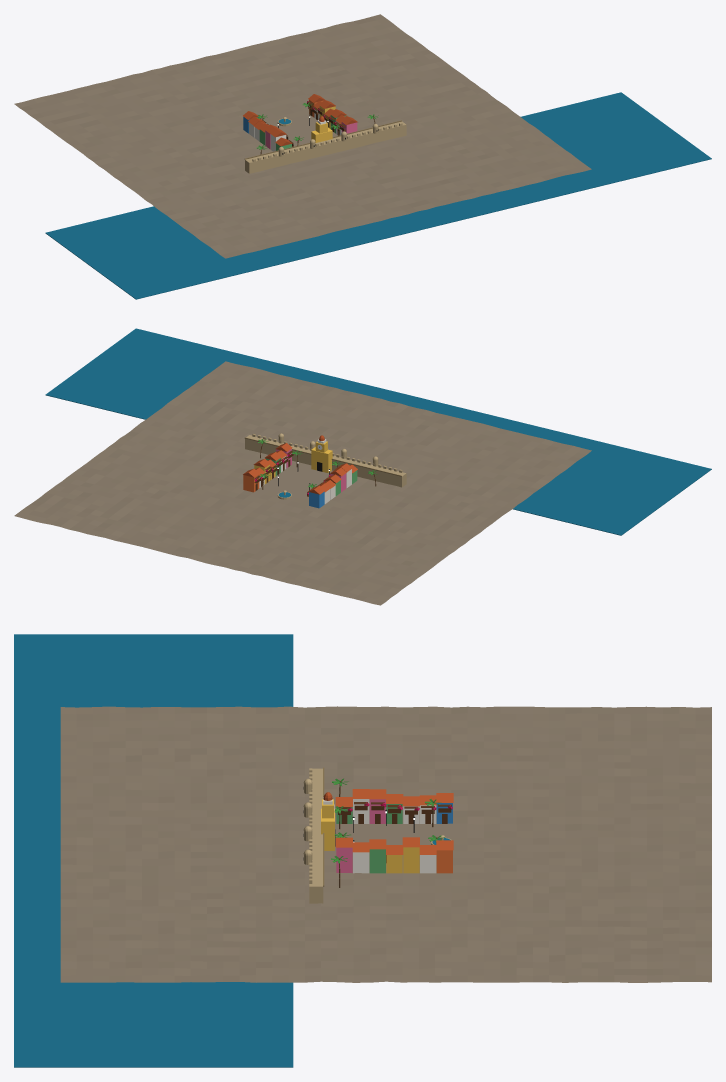
File: Escenario_Cartagena.fbx
3 views of the same model, one above another, from view 1: azimuth 30°, elevation 25°; view 2: azimuth 150°, elevation 25°; view 3: azimuth 270°, elevation 25° (orthographic). The views are drawn at different scales.
Visible parts, largest first — view 1: Escenario_Cartagena_Adoquin, Escenario_Cartagena_Mar, Escenario_Cartagena_Muralla, Escenario_Cartagena_Teja; view 2: Escenario_Cartagena_Adoquin, Escenario_Cartagena_Mar, Escenario_Cartagena_Muralla, Escenario_Cartagena_Teja, Escenario_Cartagena_Amarillo; view 3: Escenario_Cartagena_Adoquin, Escenario_Cartagena_Mar, Escenario_Cartagena_Teja, Escenario_Cartagena_Muralla, Escenario_Cartagena_Amarillo, Escenario_Cartagena_Blanco, Escenario_Cartagena_Madera, Escenario_Cartagena_Verde, Escenario_Cartagena_Rosa.
Part boxes in pixels (x1,y1,x2,y2): Escenario_Cartagena_Adoquin: (14,14,591,258); Escenario_Cartagena_Mar: (45,92,711,299); Escenario_Cartagena_Muralla: (245,117,406,173); Escenario_Cartagena_Teja: (243,94,357,146); Escenario_Cartagena_Adoquin: (14,361,591,605); Escenario_Cartagena_Mar: (45,328,711,535); Escenario_Cartagena_Muralla: (245,433,406,499); Escenario_Cartagena_Teja: (243,435,357,494); Escenario_Cartagena_Amarillo: (254,441,332,484); Escenario_Cartagena_Adoquin: (60,706,711,982); Escenario_Cartagena_Mar: (14,634,450,1067); Escenario_Cartagena_Teja: (323,789,453,854); Escenario_Cartagena_Muralla: (303,768,451,903); Escenario_Cartagena_Amarillo: (321,799,419,873); Escenario_Cartagena_Blanco: (323,797,436,873); Escenario_Cartagena_Madera: (338,802,451,823); Escenario_Cartagena_Verde: (336,804,402,873); Escenario_Cartagena_Rosa: (336,799,385,873).
Bounding box in the file's own units: 220 × 14 × 150.
